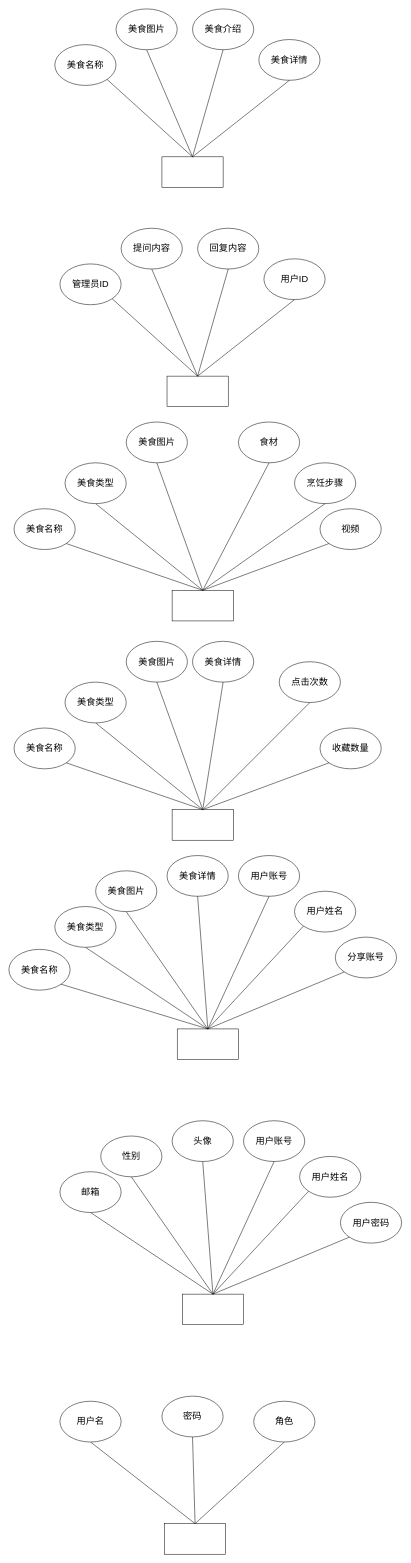
Image size: 411x1563. Some labels were removed from this diagram. Each missing label, with the centre of its shape:
"本地特色" goes at pixel 192 171.
"烹饪" goes at pixel 202 605.
"用户" goes at pixel 213 1309.
"管理员" goes at pixel 195 1538.
"美食信息" goes at pixel 202 824.
"美食转发" goes at pixel 207 1044.
"聊天" goes at pixel 197 391.
